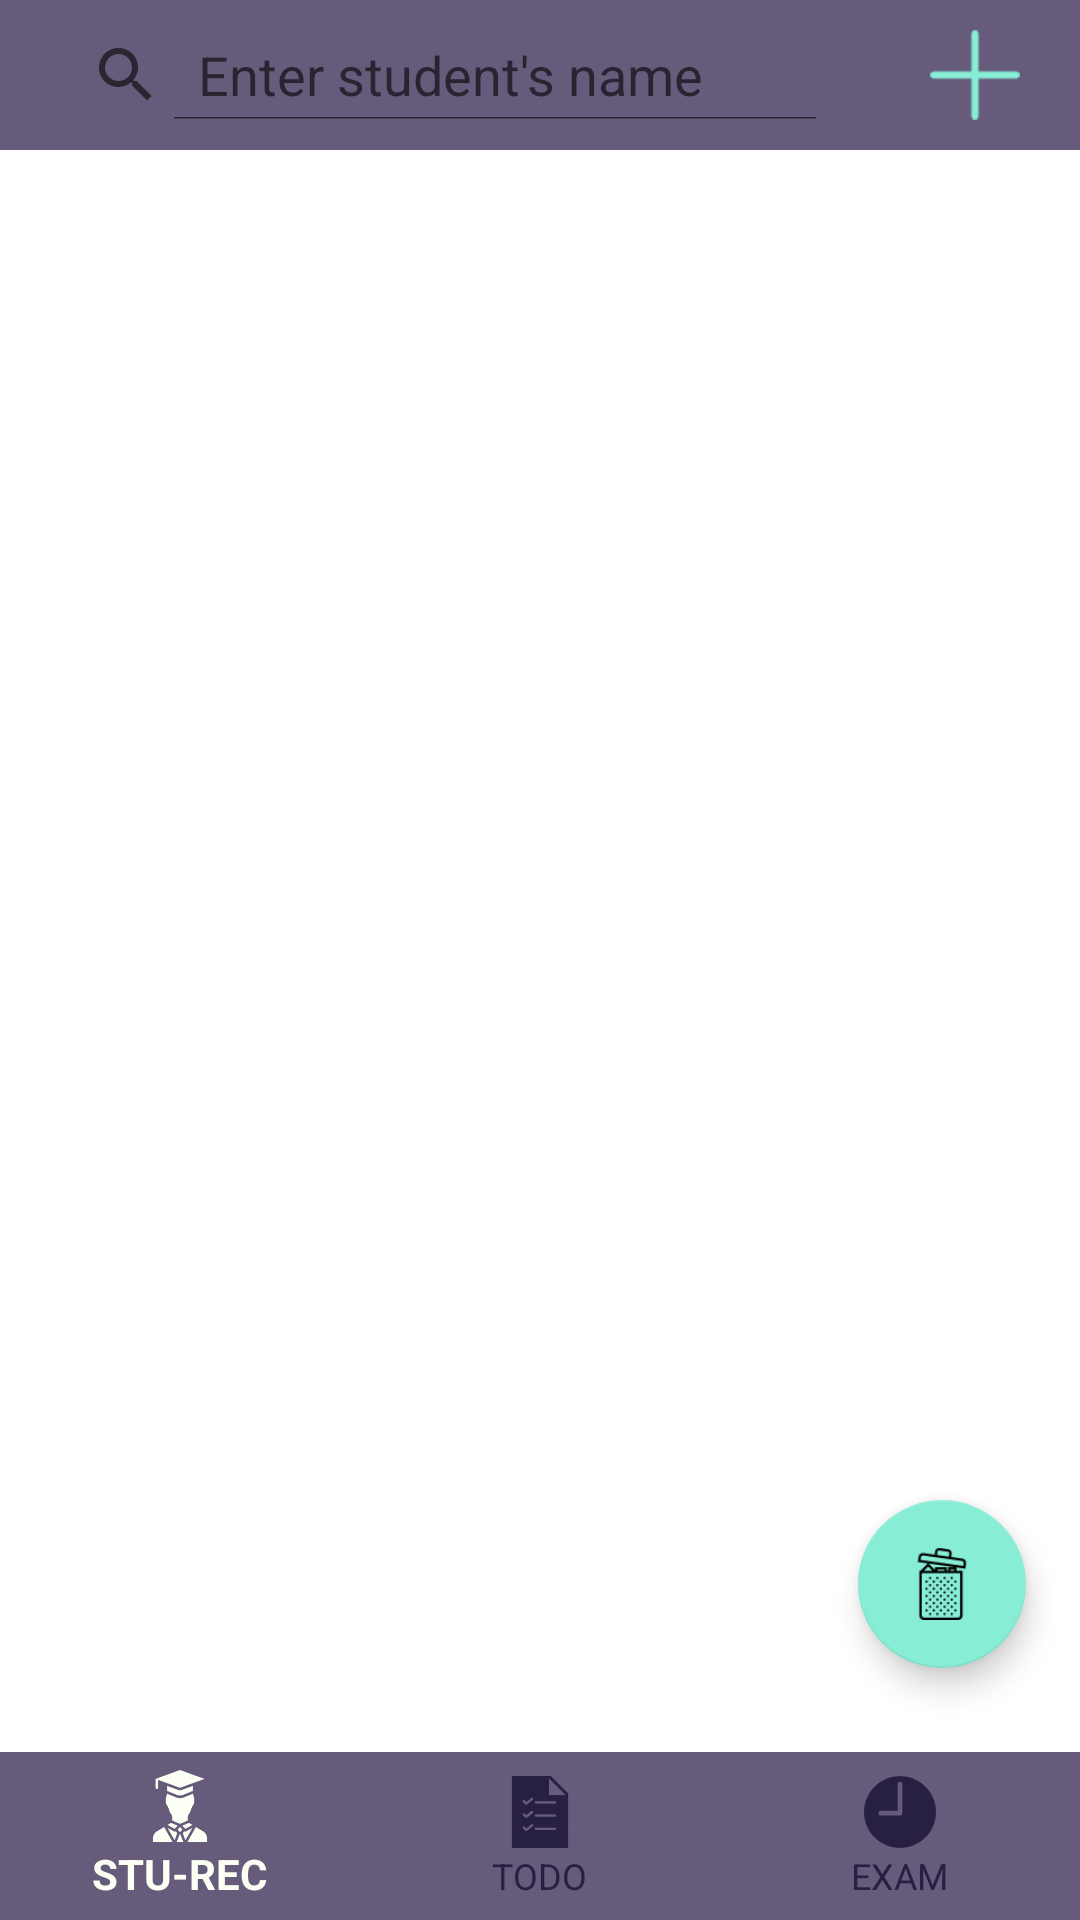

Where to tap for icons on this 1080w x 1920h app screen, as (x=x, y=y):
plus: (x=975, y=75)
trash: (x=942, y=1584)
